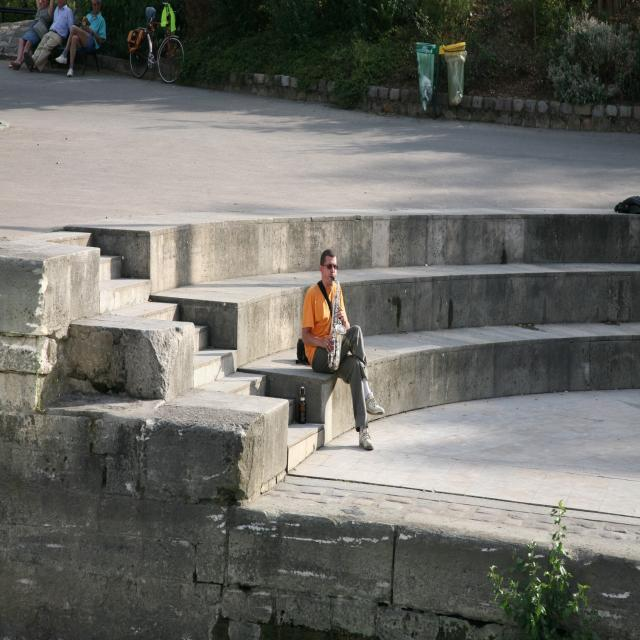saxophone: (325, 272, 345, 371)
